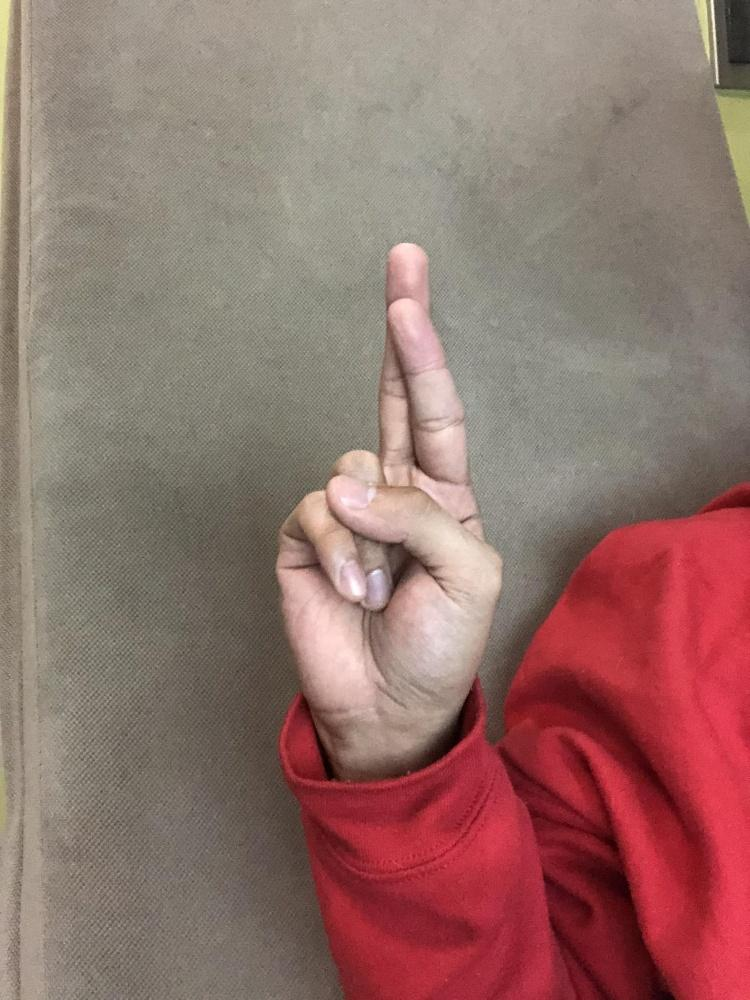r: (269, 238, 507, 735)
